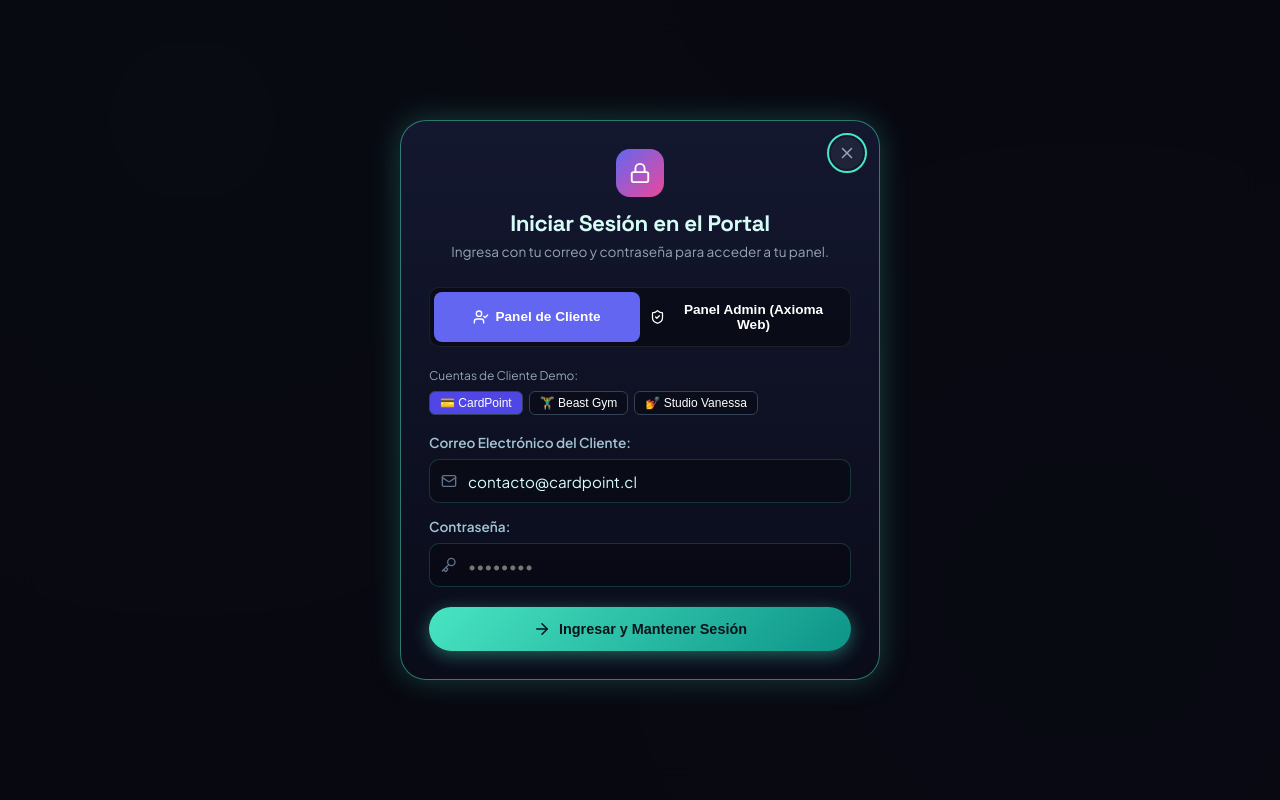
LoginModal › can switch to admin tab
The width and height of the screenshot is (1280, 800).
Click the button "Panel Admin (Axioma Web)" at x=743, y=317, box [640, 292, 846, 342]
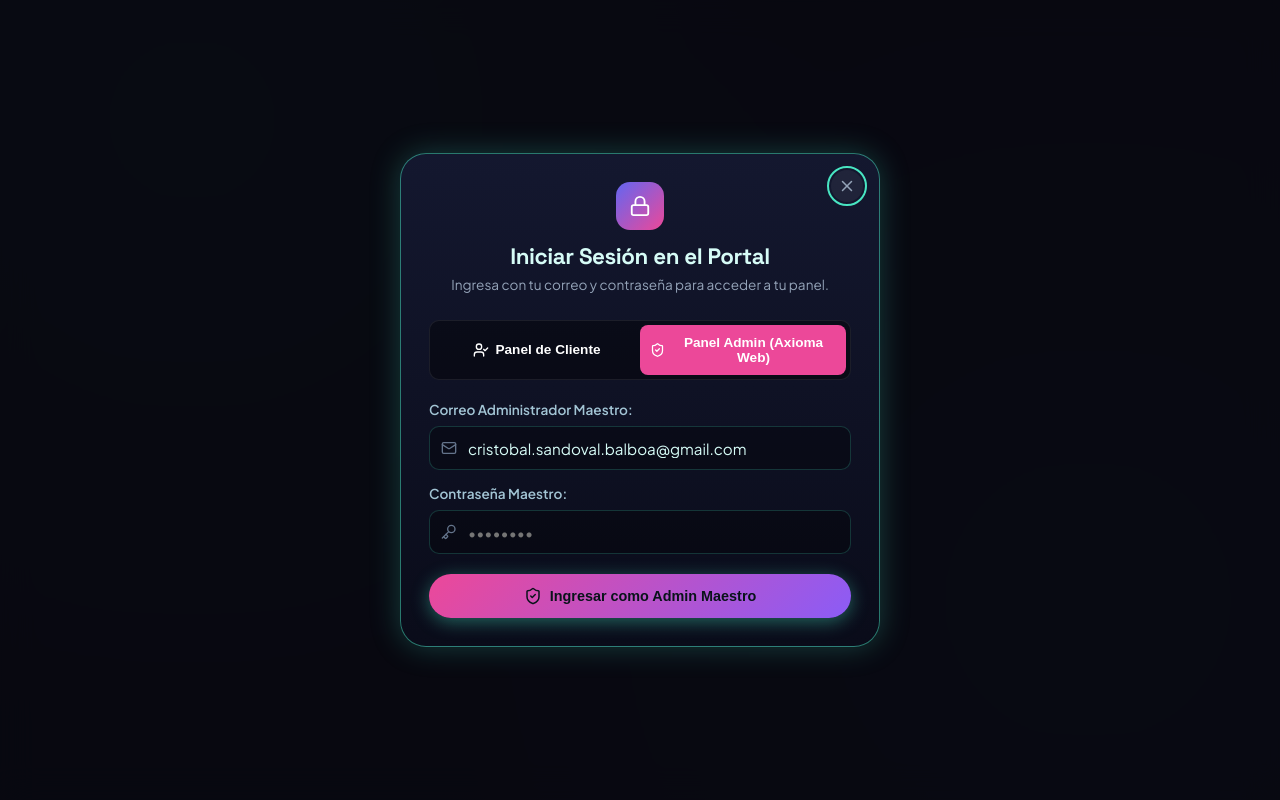
expect the text "Ingresar como Admin Maestro" is shown: met, box [550, 588, 756, 604]
